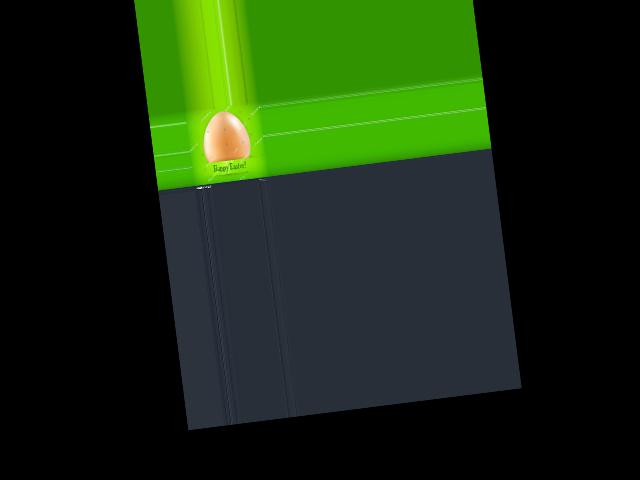egg: (199, 108, 252, 163)
